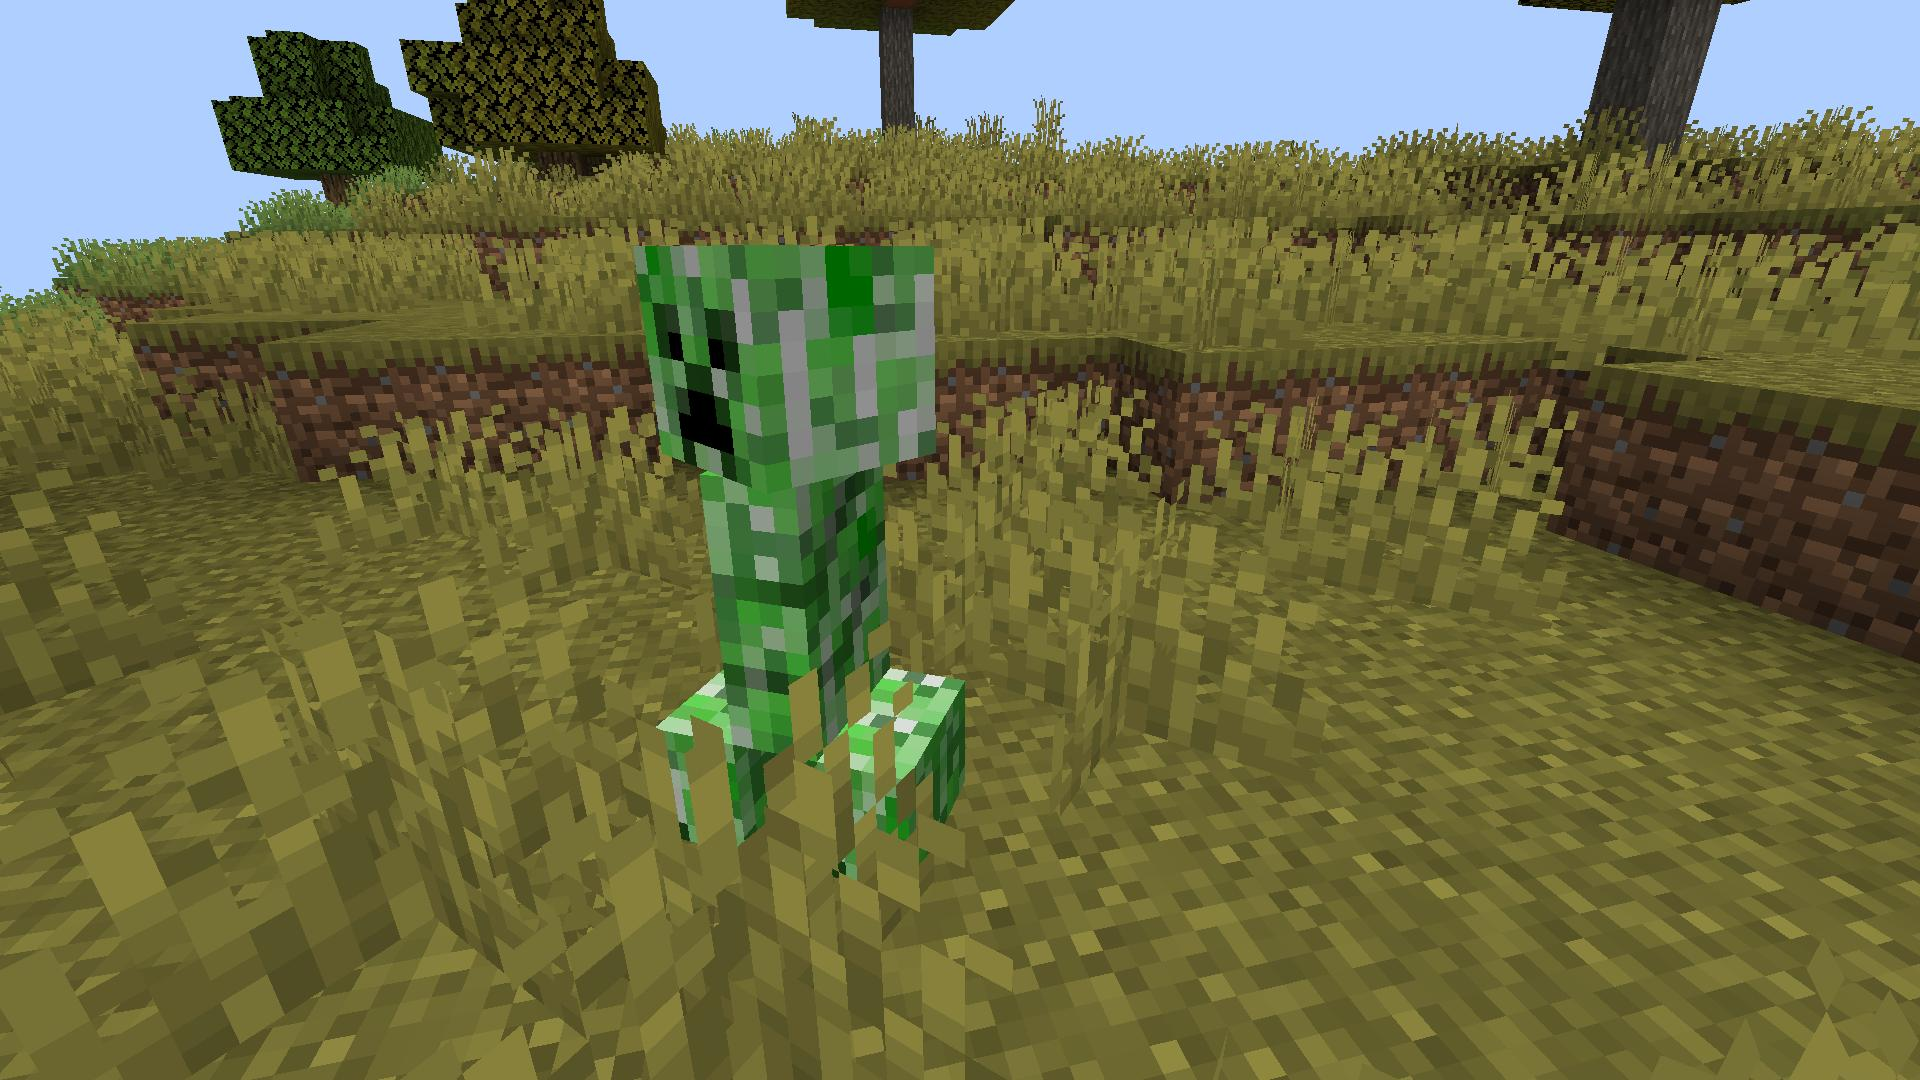creeper: (622, 235, 982, 901)
